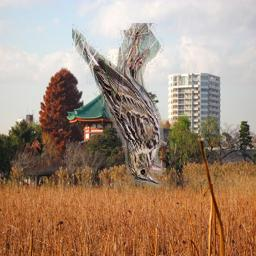Sparrow: (72, 24, 166, 189)
